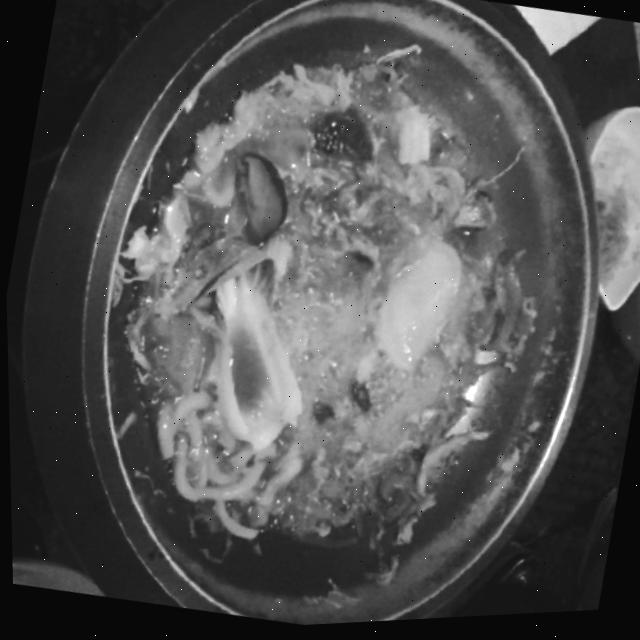汤锅炖物: (1, 0, 640, 640)
